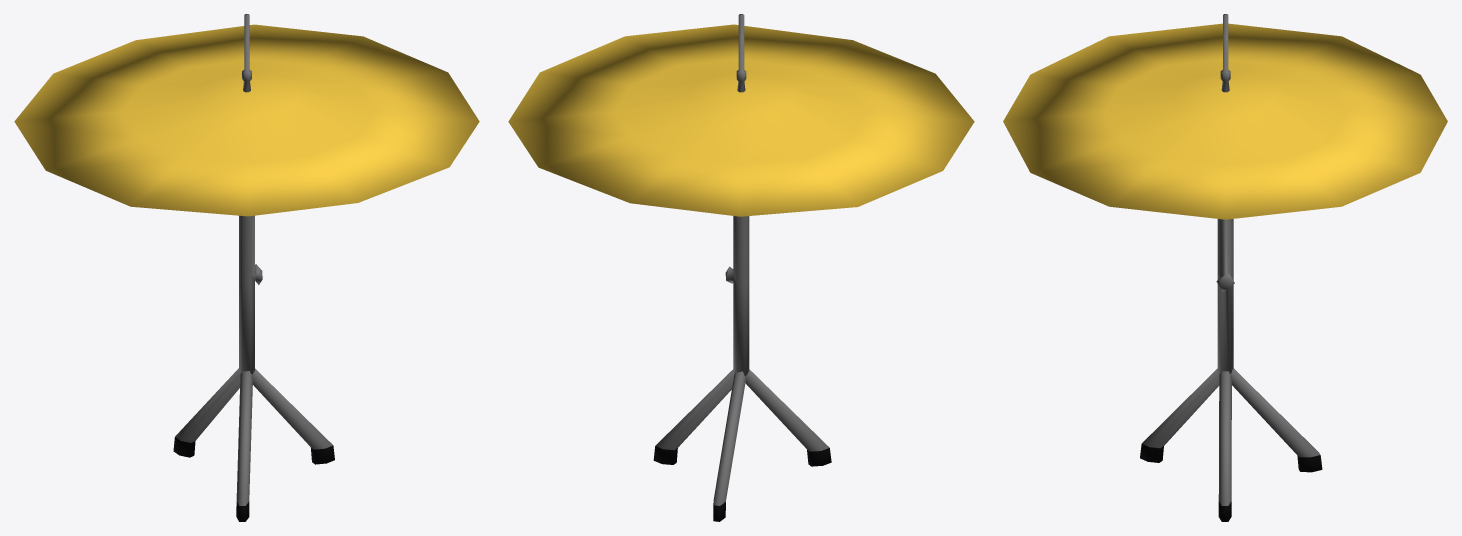
Rendered from RideCymbal.fbx.
The picture shows the model from 3 angles, left to right: view 1: azimuth 30°, elevation 25°; view 2: azimuth 150°, elevation 25°; view 3: azimuth 270°, elevation 25°; orthographic projection.
Parts seen in each view (by area): view 1: RideCymbal; view 2: RideCymbal; view 3: RideCymbal.
Boxes of the visible parts, <box> form: RideCymbal: <box>14,14,479,521</box>; RideCymbal: <box>508,14,974,521</box>; RideCymbal: <box>1003,14,1447,521</box>.
Size of the model in its own units: 86.82 by 95.8 by 83.1.
